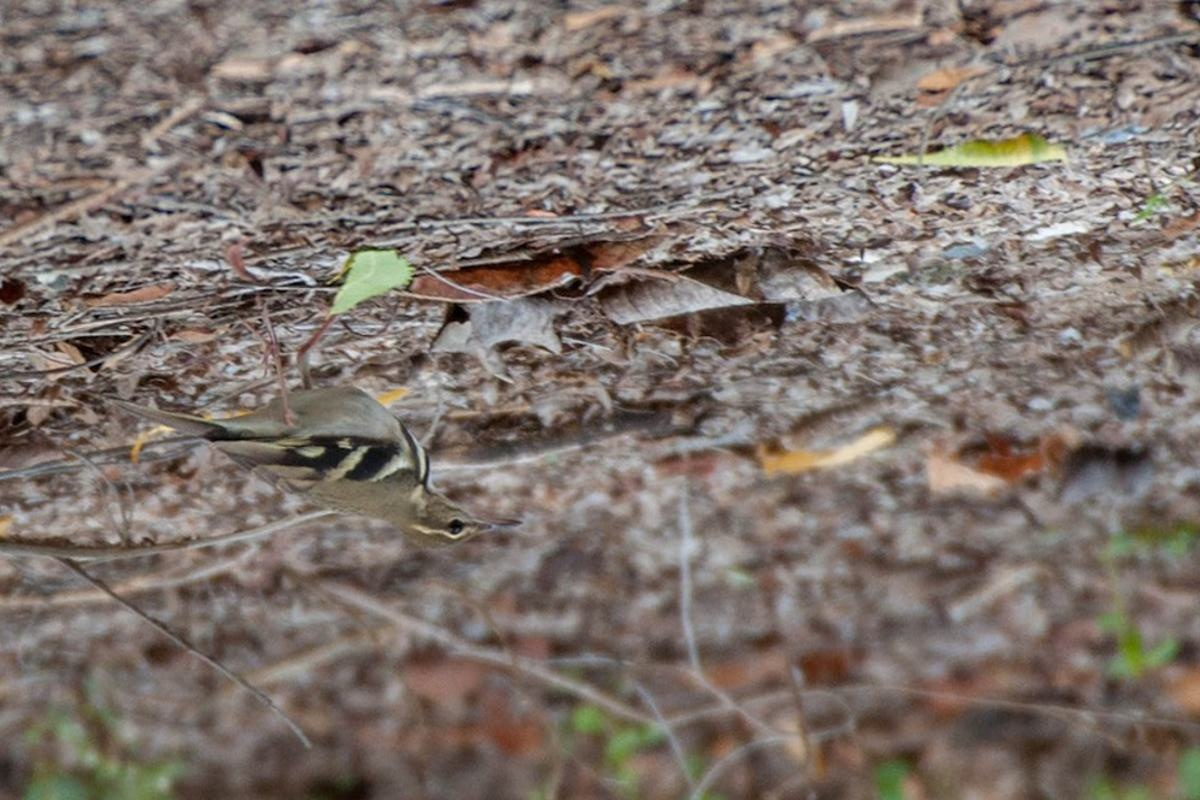wagtail: (180, 363, 501, 550)
